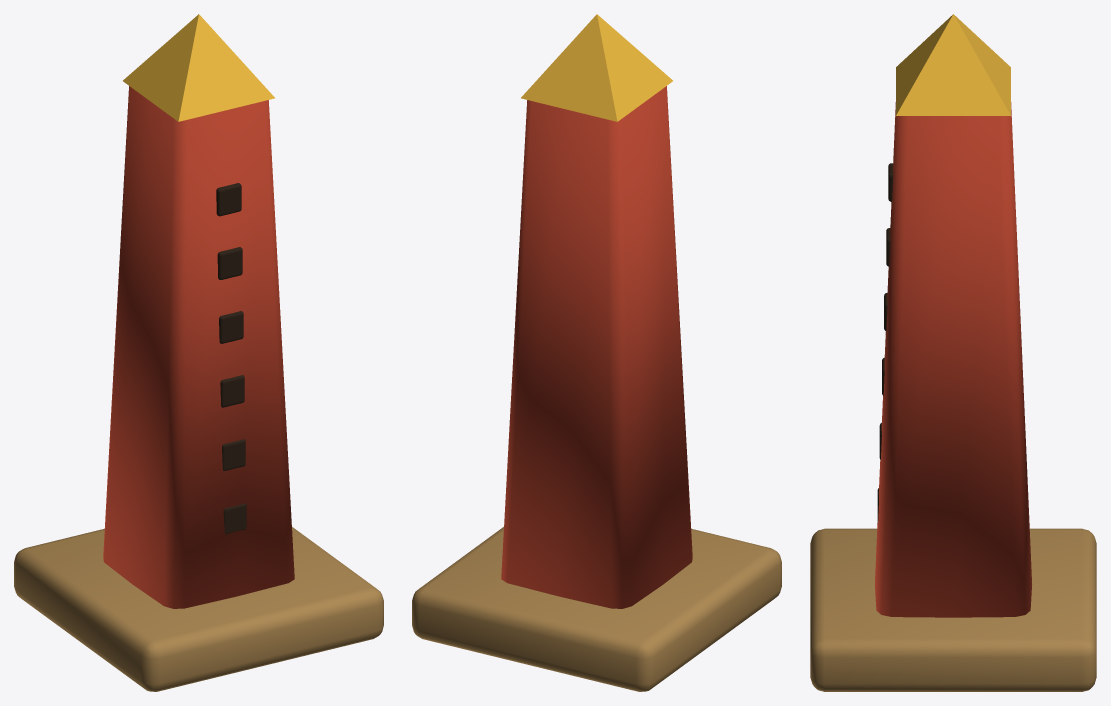
Rendered from obelisco.glb.
3 renders of one model, left to right at view 1: azimuth 30°, elevation 25°; view 2: azimuth 150°, elevation 25°; view 3: azimuth 270°, elevation 25°, orthographic. The views are drawn at different scales.
Parts seen in each view (by area): view 1: fuste, zocalo, piramidion, signo5, signo4, signo3, signo2, signo1, signo0; view 2: fuste, zocalo, piramidion; view 3: fuste, zocalo, piramidion.
Boxes of the visible parts, x1=… form: fuste: x1=103, y1=86, x2=294, y2=608; zocalo: x1=14, y1=527, x2=383, y2=691; piramidion: x1=123, y1=14, x2=274, y2=121; signo5: x1=216, y1=183, x2=241, y2=216; signo4: x1=217, y1=247, x2=242, y2=279; signo3: x1=219, y1=311, x2=243, y2=343; signo2: x1=220, y1=375, x2=244, y2=407; signo1: x1=222, y1=439, x2=245, y2=470; signo0: x1=223, y1=503, x2=246, y2=534; fuste: x1=501, y1=86, x2=692, y2=608; zocalo: x1=412, y1=527, x2=781, y2=691; piramidion: x1=521, y1=14, x2=672, y2=121; fuste: x1=875, y1=102, x2=1031, y2=617; zocalo: x1=810, y1=528, x2=1096, y2=691; piramidion: x1=896, y1=14, x2=1010, y2=115.
Bounding box in the file's own units: 0.2 × 0.48 × 0.2.
